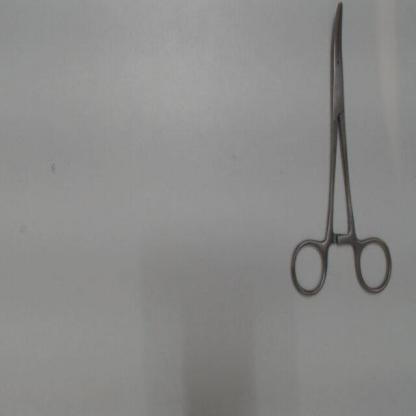Crile Artery Forceps: (283, 2, 398, 302)
